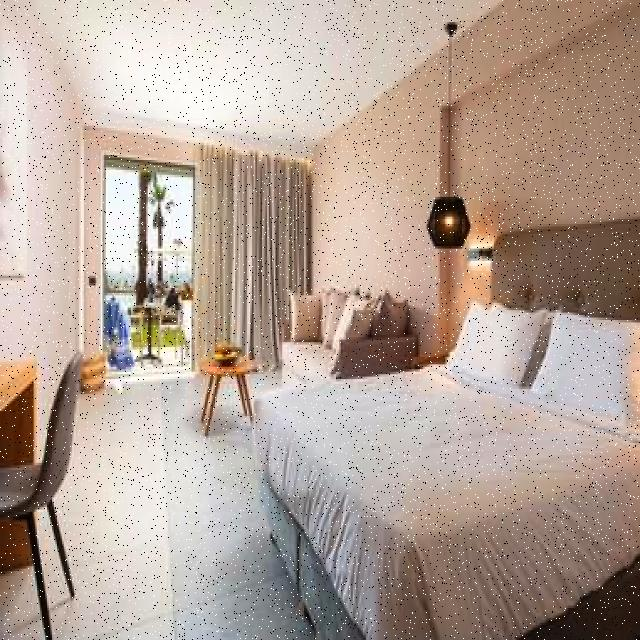bed: (247, 283, 640, 623)
